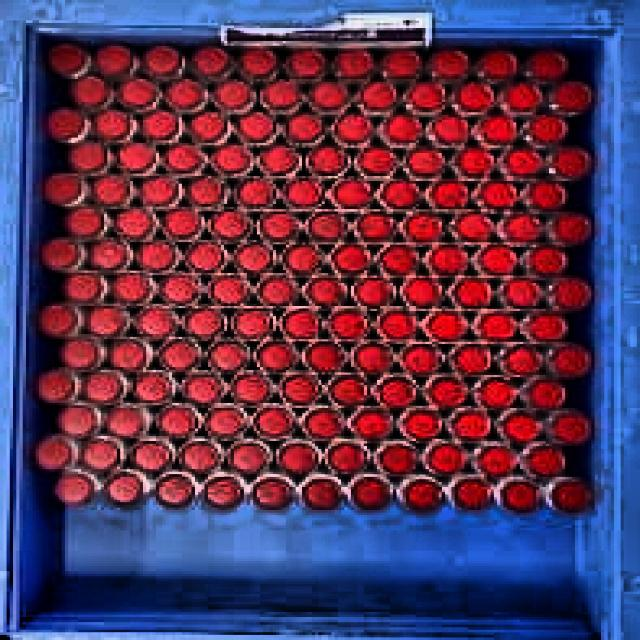vial: (190, 46, 239, 83), (94, 42, 140, 81), (117, 79, 163, 115), (258, 80, 302, 117), (451, 211, 498, 245), (81, 305, 128, 339), (143, 45, 186, 82), (50, 473, 96, 507), (48, 43, 91, 79), (165, 79, 208, 115), (374, 441, 418, 476), (325, 442, 369, 477), (228, 441, 272, 476), (475, 444, 519, 479), (240, 48, 281, 85), (402, 271, 443, 308), (201, 474, 242, 511), (350, 475, 392, 511), (154, 472, 196, 508), (156, 338, 198, 374), (551, 344, 593, 380), (305, 274, 348, 309), (110, 271, 153, 306), (82, 370, 125, 405), (354, 143, 398, 177), (209, 142, 253, 176), (32, 370, 76, 404), (426, 309, 470, 343), (140, 109, 185, 142), (552, 410, 593, 446), (236, 109, 278, 144), (90, 173, 132, 208), (376, 308, 418, 343), (252, 477, 294, 512), (301, 478, 343, 513), (62, 205, 105, 239), (156, 273, 199, 307), (156, 405, 199, 439), (104, 405, 147, 439), (426, 243, 469, 277), (525, 49, 569, 82), (549, 147, 593, 180), (280, 308, 324, 341), (32, 435, 71, 472), (427, 49, 472, 81), (37, 302, 77, 338), (102, 472, 143, 507), (426, 376, 467, 411), (399, 408, 441, 442), (550, 478, 592, 512), (112, 207, 155, 240), (327, 308, 370, 341), (376, 374, 415, 410), (138, 172, 178, 207), (354, 341, 394, 376), (305, 340, 345, 375), (107, 338, 147, 373), (68, 76, 113, 107), (475, 50, 520, 81), (257, 142, 298, 176), (184, 174, 225, 208), (281, 241, 322, 275), (61, 270, 102, 304), (131, 439, 172, 473), (331, 178, 373, 211), (86, 238, 128, 271), (527, 310, 569, 343), (552, 277, 594, 310), (380, 48, 423, 80), (115, 140, 158, 172), (207, 275, 250, 307), (92, 107, 131, 142), (351, 408, 390, 443), (525, 443, 564, 478), (549, 81, 593, 112), (252, 407, 296, 438), (160, 206, 200, 240), (186, 240, 226, 274), (279, 443, 319, 477), (81, 437, 121, 471), (527, 377, 567, 411), (529, 244, 569, 278), (211, 78, 252, 111), (453, 145, 494, 178), (308, 144, 349, 177), (135, 239, 176, 272), (181, 307, 222, 340), (401, 478, 442, 511), (304, 406, 345, 439), (206, 406, 247, 439), (500, 412, 541, 445), (500, 345, 541, 378), (478, 378, 519, 411), (526, 178, 568, 210), (233, 242, 275, 274), (405, 146, 448, 177), (329, 375, 368, 409), (179, 441, 218, 475), (454, 80, 494, 113), (354, 211, 394, 244), (46, 107, 86, 140), (39, 236, 79, 269), (183, 372, 223, 405), (255, 340, 295, 373), (451, 343, 491, 376), (380, 178, 421, 210), (58, 405, 99, 437), (451, 409, 492, 441), (426, 443, 467, 475), (402, 214, 444, 245), (476, 310, 518, 341), (500, 277, 542, 308), (332, 243, 370, 277), (233, 307, 271, 341), (134, 308, 177, 338), (502, 146, 542, 178), (477, 178, 517, 210), (285, 179, 326, 210), (452, 477, 493, 508), (188, 113, 230, 143), (550, 215, 592, 245), (162, 143, 204, 173), (278, 375, 320, 405), (231, 371, 268, 405), (44, 171, 82, 204), (502, 480, 540, 513), (432, 112, 471, 144), (67, 140, 106, 172), (354, 276, 393, 308), (209, 341, 248, 373), (60, 338, 99, 370), (477, 245, 516, 277), (383, 112, 423, 143), (306, 211, 346, 242), (379, 243, 415, 277), (212, 208, 249, 241), (258, 275, 295, 308), (285, 112, 323, 144), (132, 373, 170, 405), (407, 81, 446, 112), (429, 178, 468, 209), (453, 278, 492, 309), (529, 114, 569, 144), (504, 82, 544, 112), (499, 214, 539, 244), (234, 178, 274, 208), (260, 210, 297, 242), (478, 113, 516, 144), (357, 81, 397, 110), (403, 343, 438, 375), (310, 81, 347, 111), (334, 113, 371, 143), (287, 50, 322, 80), (338, 50, 370, 79)
